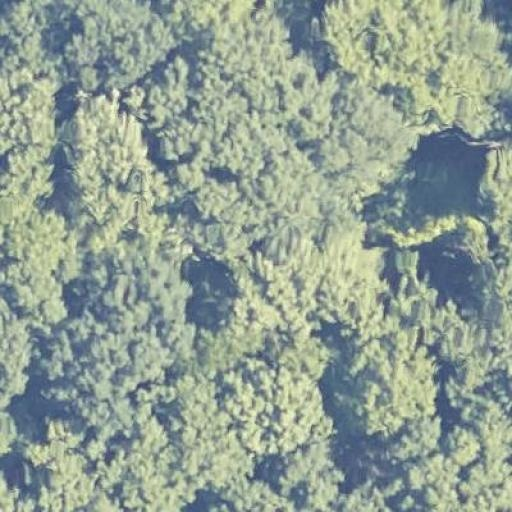tree-top: (51, 92, 168, 247), (196, 162, 366, 268), (279, 67, 409, 203), (148, 68, 269, 194), (42, 318, 164, 435), (314, 0, 458, 87), (54, 0, 178, 91), (84, 245, 198, 342), (330, 348, 434, 446), (428, 26, 512, 146), (411, 414, 512, 512), (228, 245, 338, 334), (198, 6, 296, 100), (224, 366, 314, 468), (0, 210, 80, 314), (106, 417, 190, 512), (20, 418, 104, 512), (0, 79, 54, 207), (181, 373, 237, 486), (276, 424, 347, 512), (324, 265, 394, 339), (0, 0, 55, 86), (0, 298, 40, 409)
